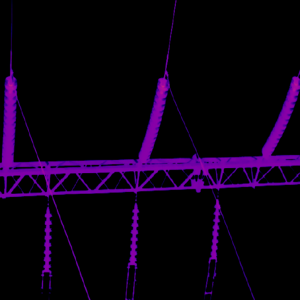insulator: (261, 74, 300, 156), (136, 76, 169, 161), (0, 75, 17, 170), (128, 202, 139, 265), (209, 197, 220, 259), (43, 204, 52, 272)
